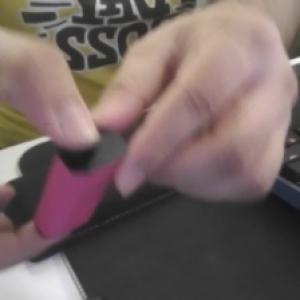Blume-E-Ciggirate: (31, 130, 133, 241)
